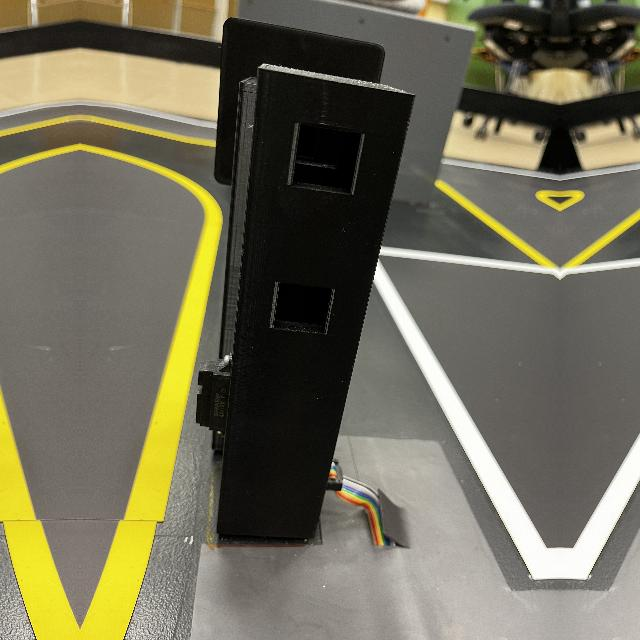obstacle: (202, 12, 416, 548)
